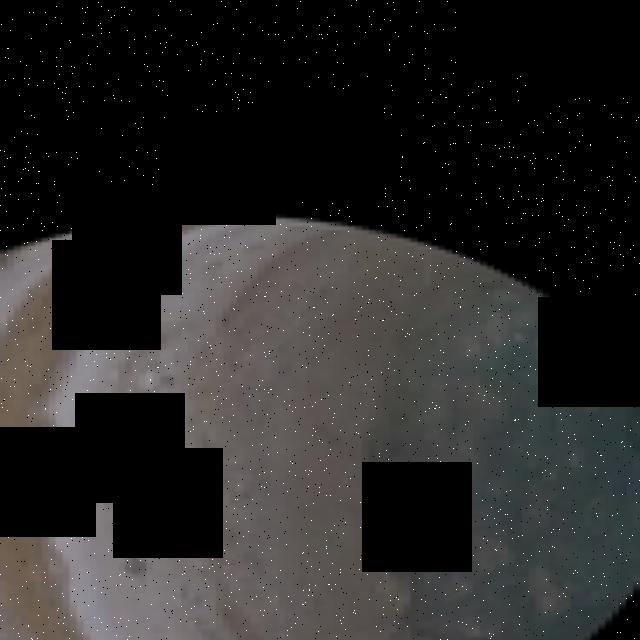Jupiter: (0, 218, 640, 640)
